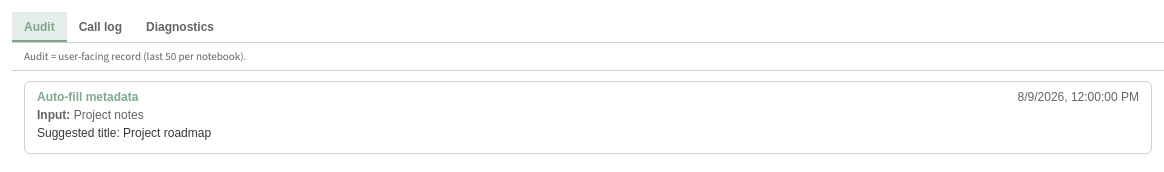
it: AiHistoryPanel › K4: 7일 요약 카드 › shows a row's discard reason next to its outcome badge
Click the tab "Call log": (100, 27) left=67, top=12, right=134, bottom=42
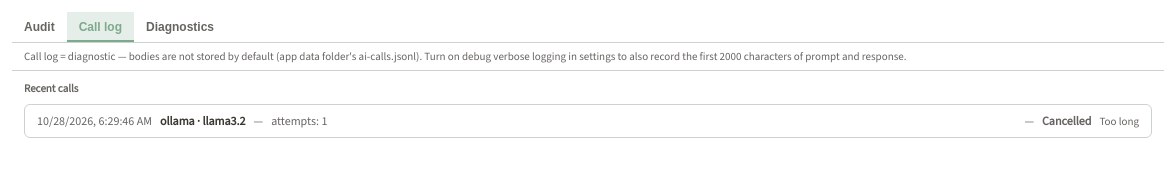
Expected: the text with test id "ai-calllog-discard-reason" reads "Too long", left=1099, top=114, right=1139, bottom=128
